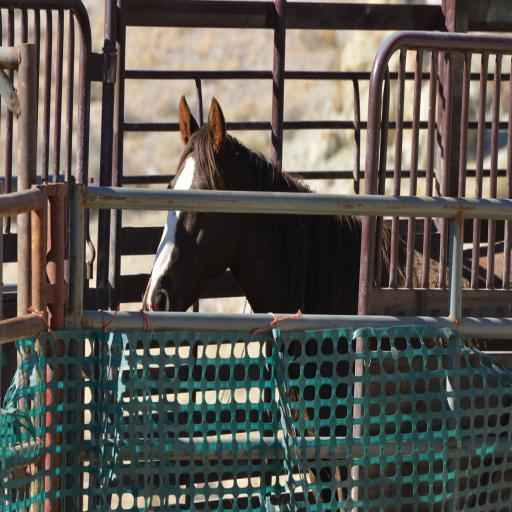Horse: (139, 92, 512, 512)
